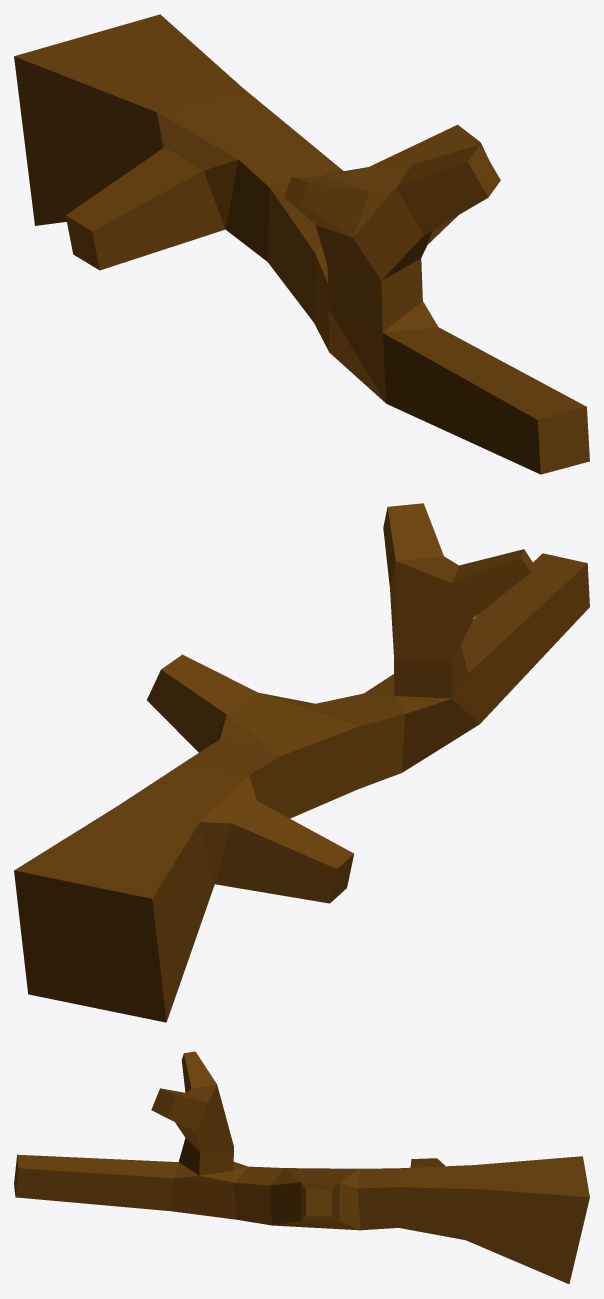
Rendered from Sc_troncoLargo_2.fbx.
3 renders of one model, top to bottom at view 1: azimuth 30°, elevation 25°; view 2: azimuth 150°, elevation 25°; view 3: azimuth 270°, elevation 25°, orthographic. The views are drawn at different scales.
Parts seen in each view (by area): view 1: TroncoCortadoAcostado.001; view 2: TroncoCortadoAcostado.001; view 3: TroncoCortadoAcostado.001.
Boxes of the visible parts, left/top/right/bottom form: TroncoCortadoAcostado.001: left=14, top=14, right=589, bottom=474; TroncoCortadoAcostado.001: left=14, top=503, right=589, bottom=1022; TroncoCortadoAcostado.001: left=14, top=1051, right=589, bottom=1283.
Size of the model in its own units: 205 by 194 by 585.
